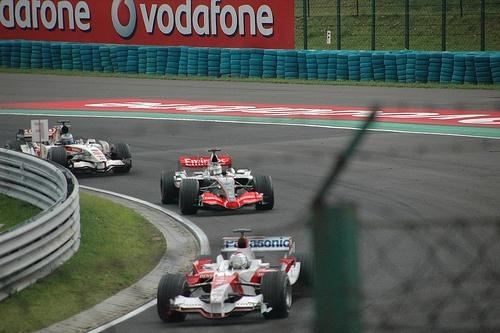car: (156, 227, 316, 324), (159, 148, 278, 217), (6, 118, 135, 180)
